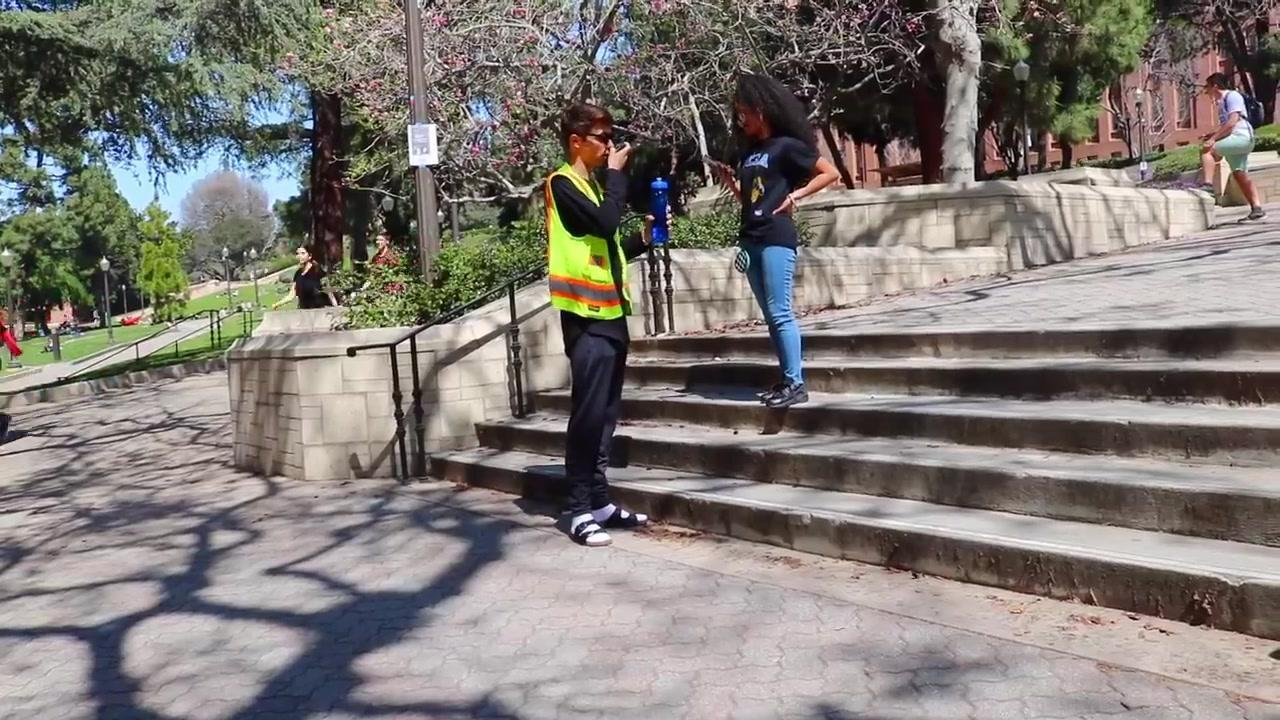vest: (538, 158, 634, 323)
